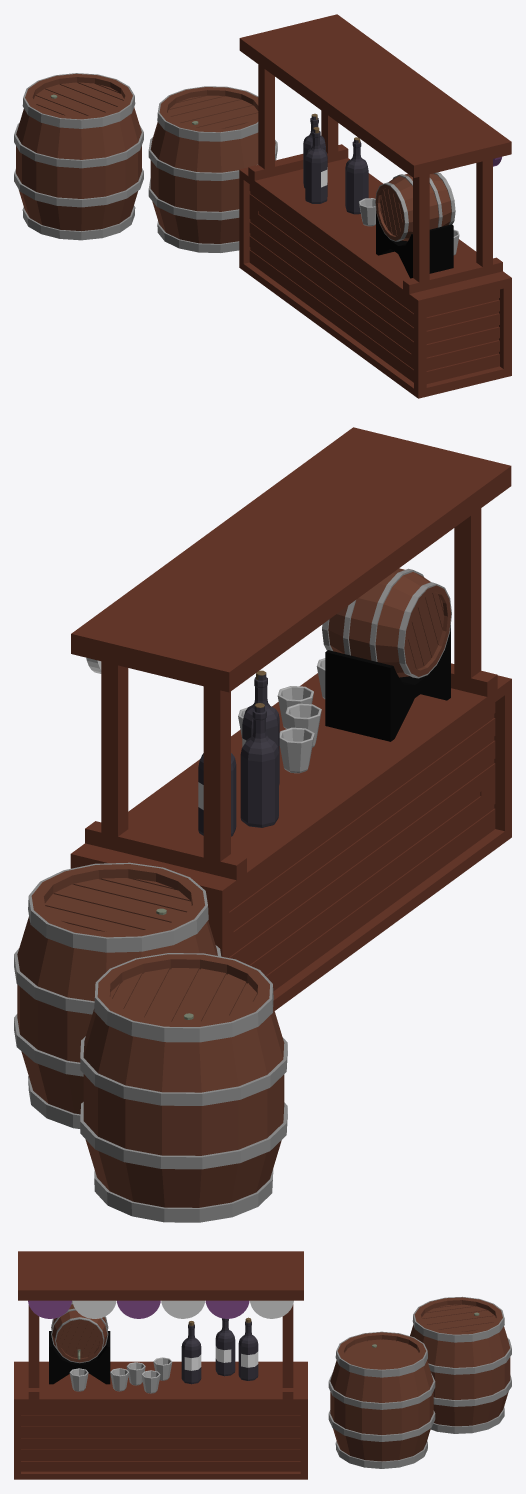
File: etal_de_pinnard.fbx
3 renders of one model, top to bottom at view 1: azimuth 30°, elevation 25°; view 2: azimuth 150°, elevation 25°; view 3: azimuth 270°, elevation 25°, orthographic. The views are drawn at different scales.
Parts seen in each view (by area): view 1: etal, Tonneau.001, Tonneau, Tonneau.002, bottle_2, bottle, bottle_3; view 2: etal, Tonneau.001, Tonneau, Tonneau.002, bottle_2, glass_2, bottle, bottle_3, glass_4; view 3: etal, Tonneau, Tonneau.001, truc_au_dessus, Tonneau.002, bottle, bottle_3, bottle_2, glass, glass_3, glass_5, glass_4 (+1 smaller).
Boxes of the visible parts, box(x1,y1,x2,y2) form: etal: box(239, 14, 511, 398); Tonneau.001: box(14, 73, 143, 240); Tonneau: box(148, 86, 277, 252); Tonneau.002: box(375, 172, 455, 278); bottle_2: box(305, 127, 327, 203); bottle: box(345, 137, 368, 214); bottle_3: box(303, 113, 325, 188); etal: box(70, 427, 511, 1010); Tonneau.001: box(80, 953, 287, 1222); Tonneau: box(14, 862, 221, 1128); Tonneau.002: box(322, 568, 451, 741); bottle_2: box(240, 703, 278, 827); glass_2: box(279, 727, 314, 773); bottle: box(242, 670, 279, 784); bottle_3: box(198, 753, 236, 836); glass_4: box(285, 703, 321, 747); etal: box(14, 1251, 307, 1479); Tonneau: box(328, 1331, 435, 1468); Tonneau.001: box(410, 1296, 511, 1433); truc_au_dessus: box(28, 1300, 293, 1318); Tonneau.002: box(49, 1301, 110, 1384); bottle: box(181, 1321, 201, 1384); bottle_3: box(238, 1317, 258, 1380); bottle_2: box(215, 1318, 235, 1376); glass: box(69, 1368, 88, 1391); glass_3: box(110, 1368, 128, 1391); glass_5: box(141, 1370, 160, 1393); glass_4: box(126, 1362, 145, 1385).
Bounding box in the file's own units: 470 × 473 × 1122.
